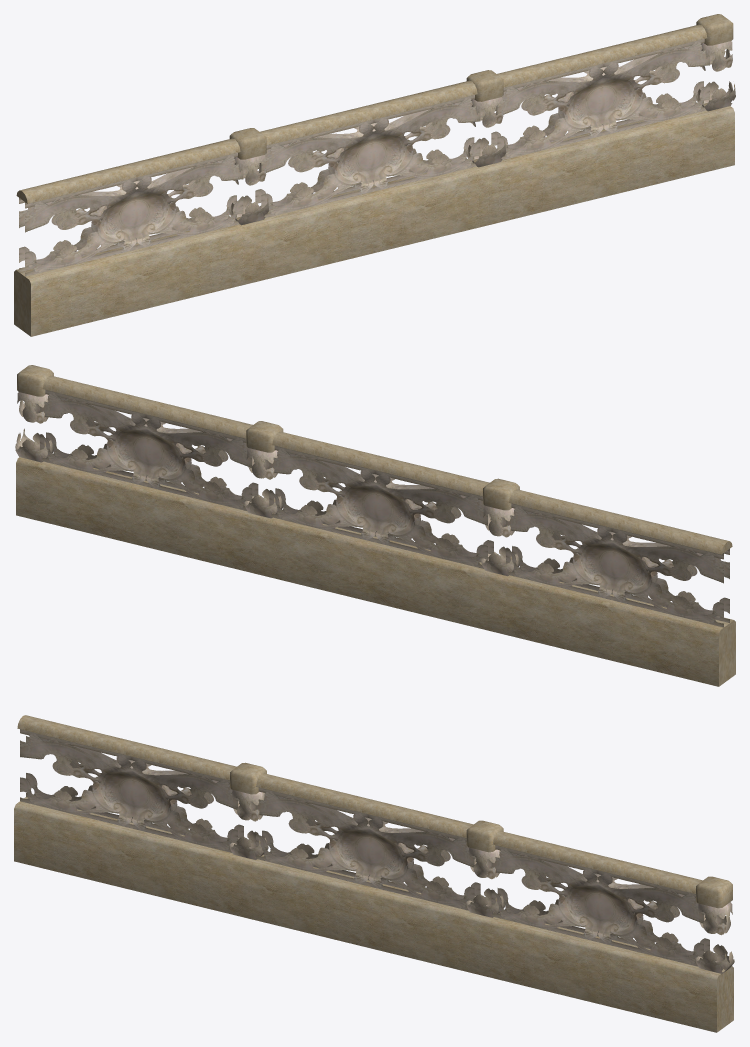
The model's file is thm_nboo_imprv_pillar_wall_ornate_large_s01_l0.fbx.
3 views of the same model, one above another, from view 1: azimuth 30°, elevation 25°; view 2: azimuth 150°, elevation 25°; view 3: azimuth 330°, elevation 25° (orthographic).
Parts seen in each view (by area): view 1: mesh_node; view 2: mesh_node; view 3: mesh_node.
Boxes of the visible parts, box(x1,y1,x2,y2) form: mesh_node: box(14, 14, 735, 336); mesh_node: box(15, 365, 735, 686); mesh_node: box(14, 715, 734, 1032).
Bounding box in the file's own units: 8.2 × 1.56 × 0.342.
